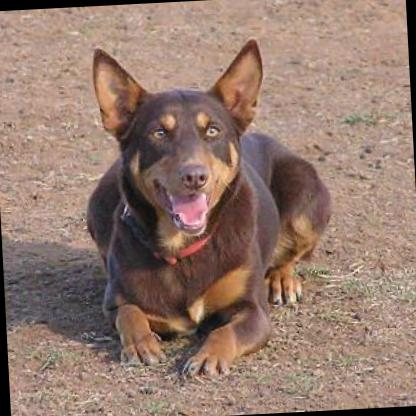kelpie: (73, 31, 340, 385)
